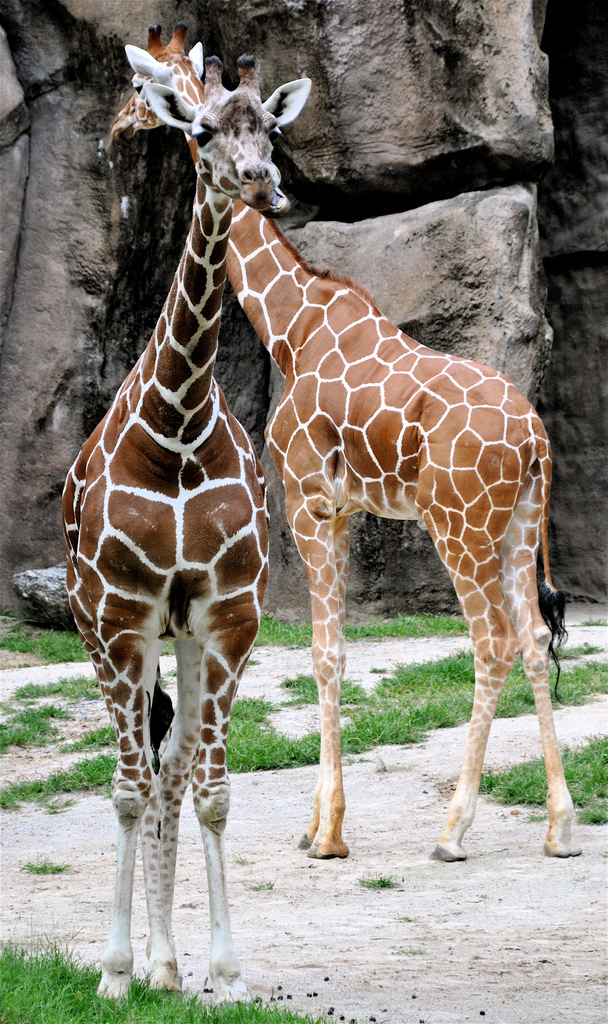giraffe: (107, 49, 608, 868), (90, 60, 278, 986)
